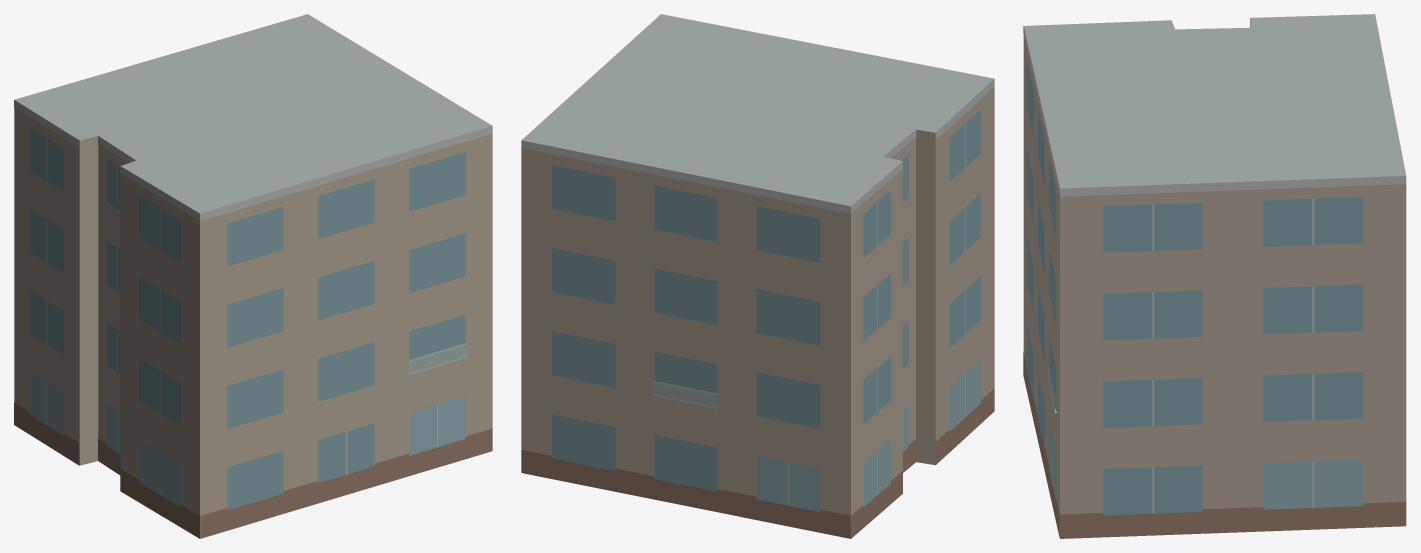
The model's file is survey-upis-32531851.glb.
The picture shows the model from 3 angles, left to right: view 1: azimuth 30°, elevation 25°; view 2: azimuth 150°, elevation 25°; view 3: azimuth 270°, elevation 25°; orthographic projection. The views are drawn at different scales.
Visible parts, largest first — view 1: survey-upis-32531851.tmp; view 2: survey-upis-32531851.tmp; view 3: survey-upis-32531851.tmp.
Boxes of the visible parts, box(x1,y1,x2,y2) form: survey-upis-32531851.tmp: box(14, 14, 492, 538); survey-upis-32531851.tmp: box(521, 14, 994, 538); survey-upis-32531851.tmp: box(1023, 14, 1406, 538).
Bounding box in the file's own units: 11.12 × 10.4 × 10.31.
